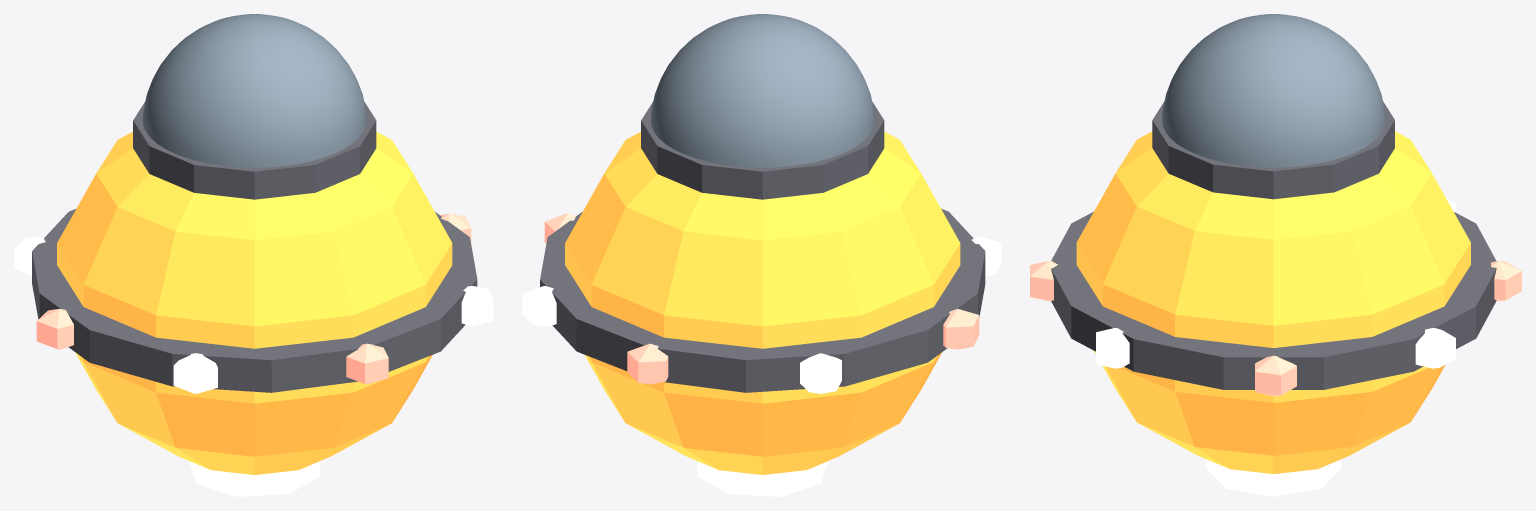
Rendered from foo.glb.
3 views of the same model, side by side, from view 1: azimuth 30°, elevation 25°; view 2: azimuth 150°, elevation 25°; view 3: azimuth 270°, elevation 25° (orthographic).
Parts seen in each view (by area): view 1: foo, dome.003; view 2: foo, dome.003; view 3: foo, dome.003.
Part boxes in pixels (left/top/right/bottom): foo: left=14, top=101, right=493, bottom=496; dome.003: left=142, top=14, right=366, bottom=167; foo: left=522, top=101, right=1001, bottom=496; dome.003: left=650, top=14, right=874, bottom=167; foo: left=1030, top=101, right=1521, bottom=496; dome.003: left=1162, top=14, right=1385, bottom=167.
Size of the model in its own units: 2.2 by 2.18 by 2.19.
